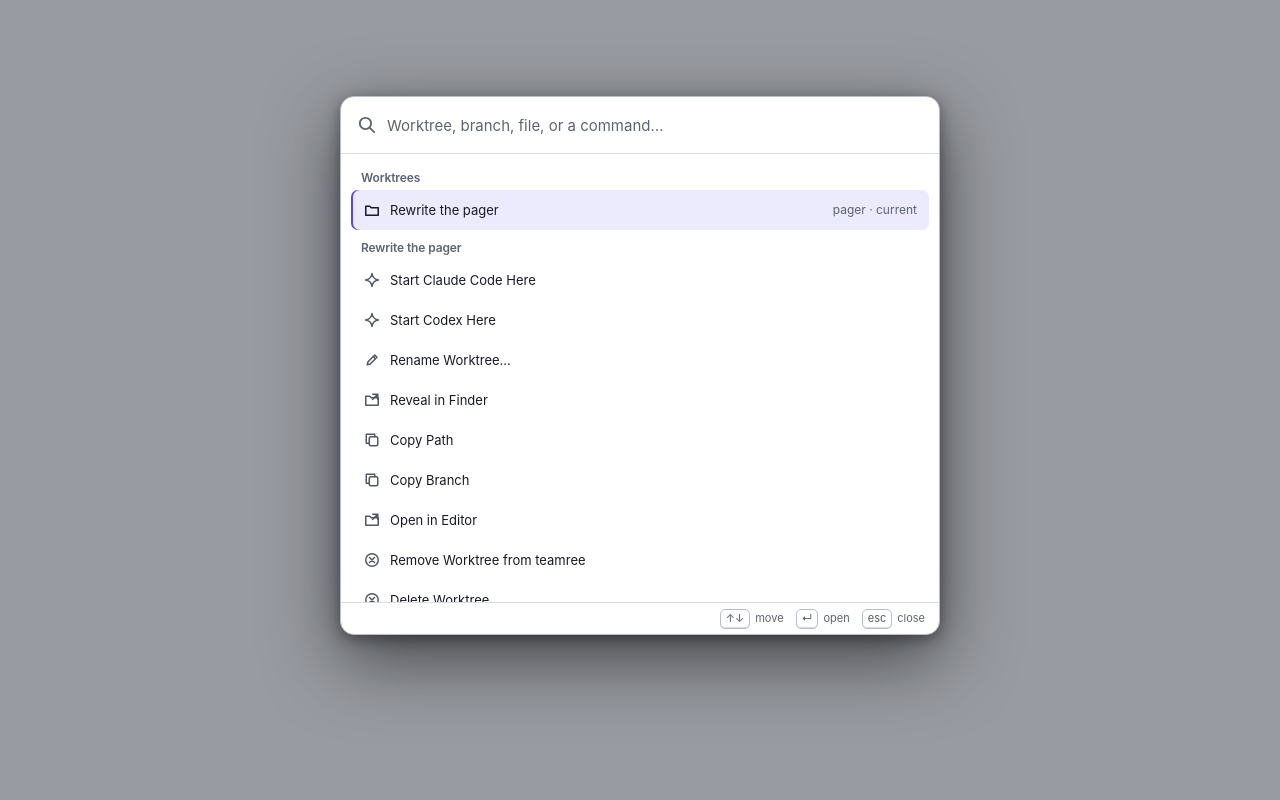
Test case: a query that finds nothing › offers a New Task and an Open Branch from it instead of a dead end
Type "rate limits" into the field at (655, 125), box x1=387 y1=101 x2=923 y2=149
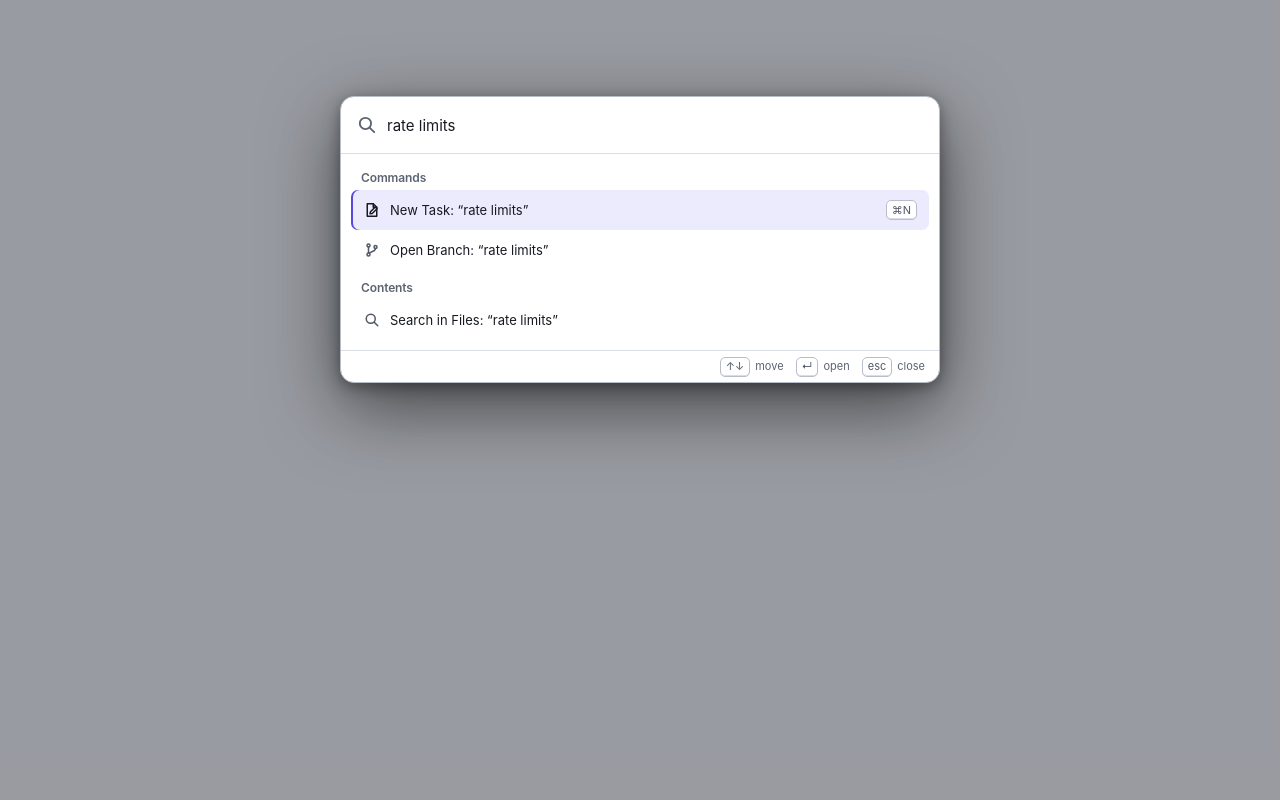
Now the text "New Task: “rate limits”" is shown, box x1=390 y1=201 x2=528 y2=219
